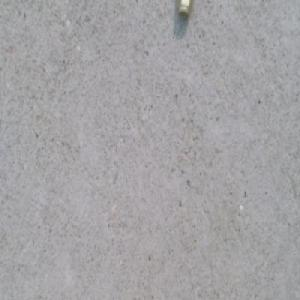BoltNutSet: (176, 0, 194, 19)
